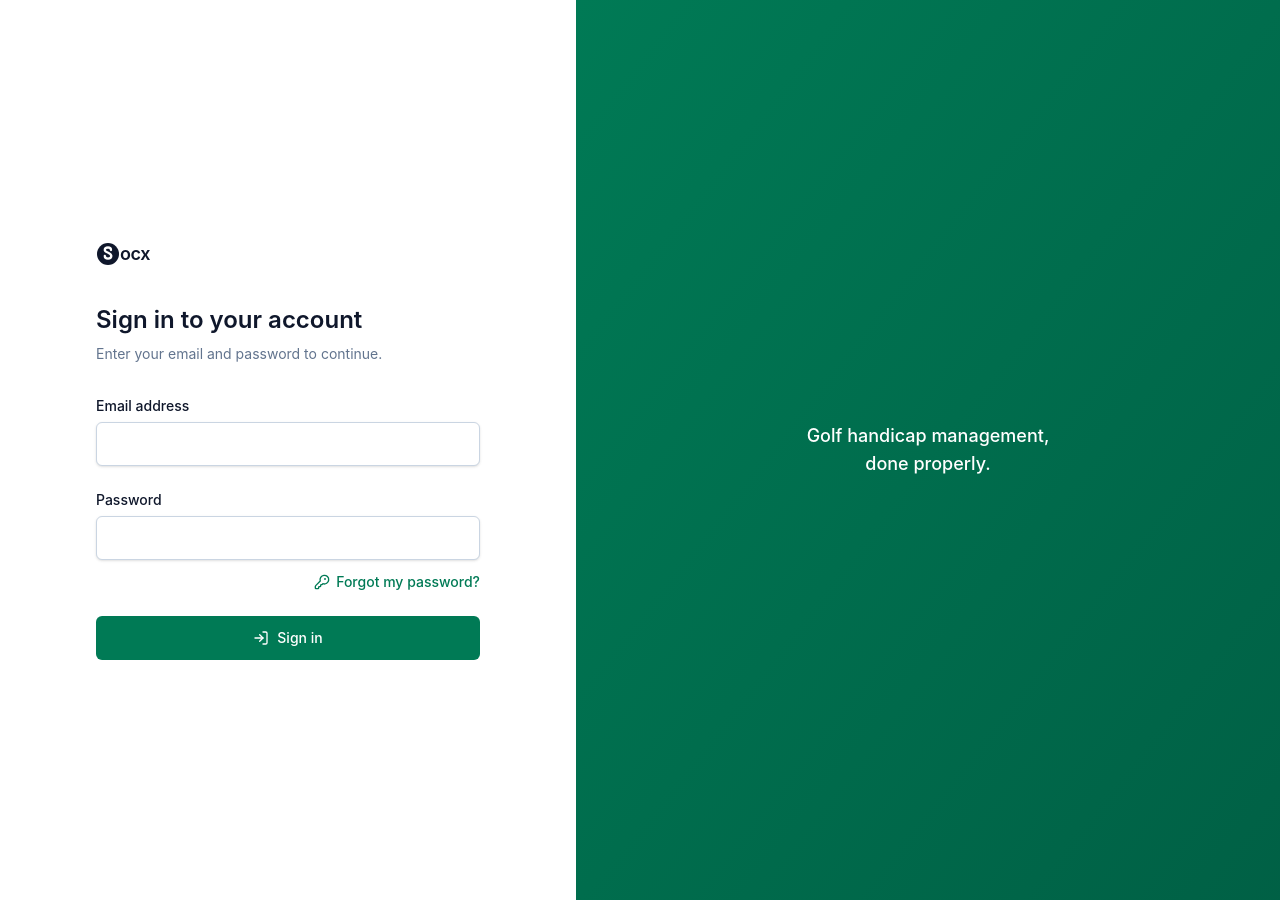
Test case: LoginPage › shows a distinct 'slow down' state for a 429, not the raw backend message (acceptance criterion)
Type "a@example.com" into the field labelled "Email address".
click(288, 444); type("a@example.com")  # box [96,422,480,466]
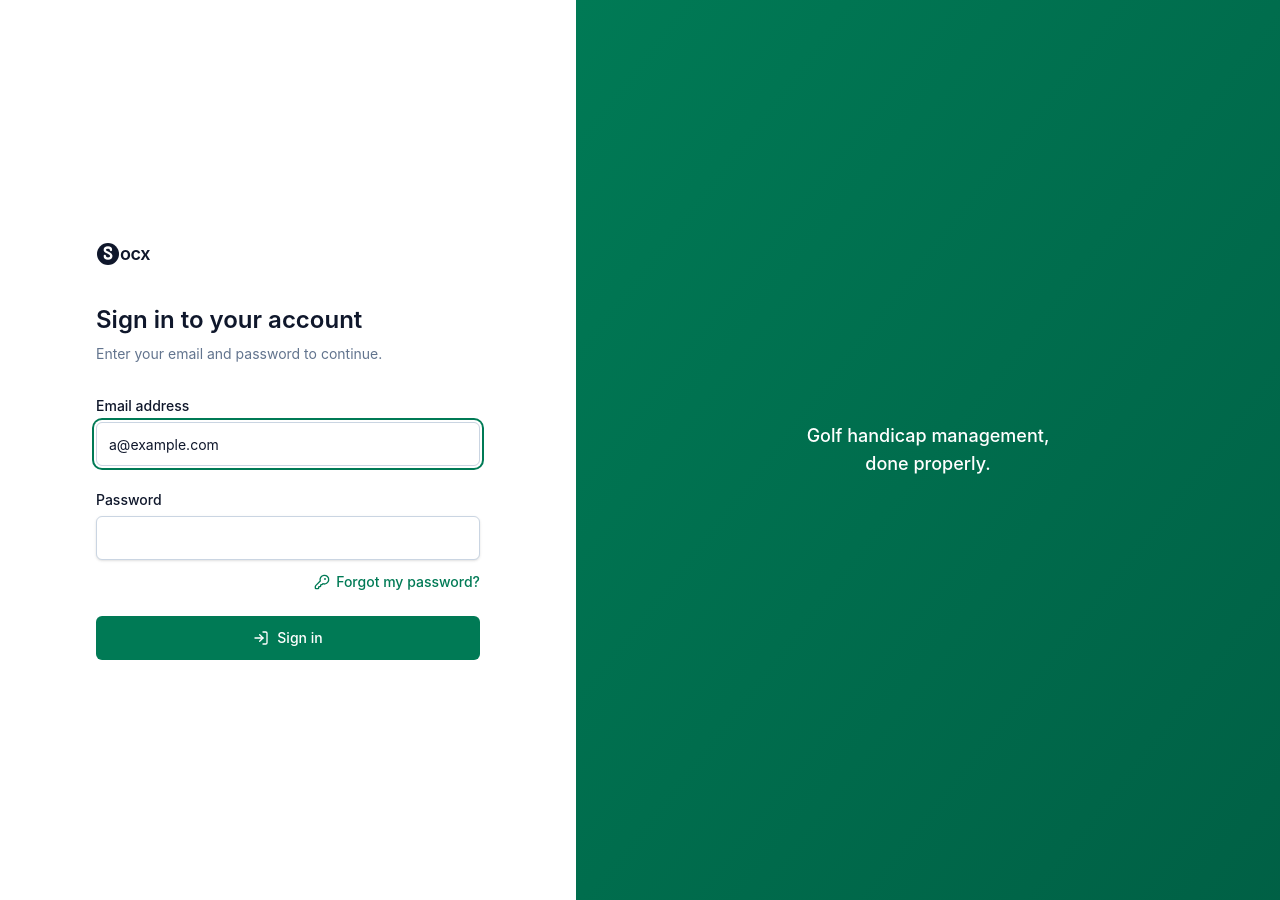
Type "pw" into the password field labelled "Password".
click(288, 538); type("pw")  # box [96,516,480,560]
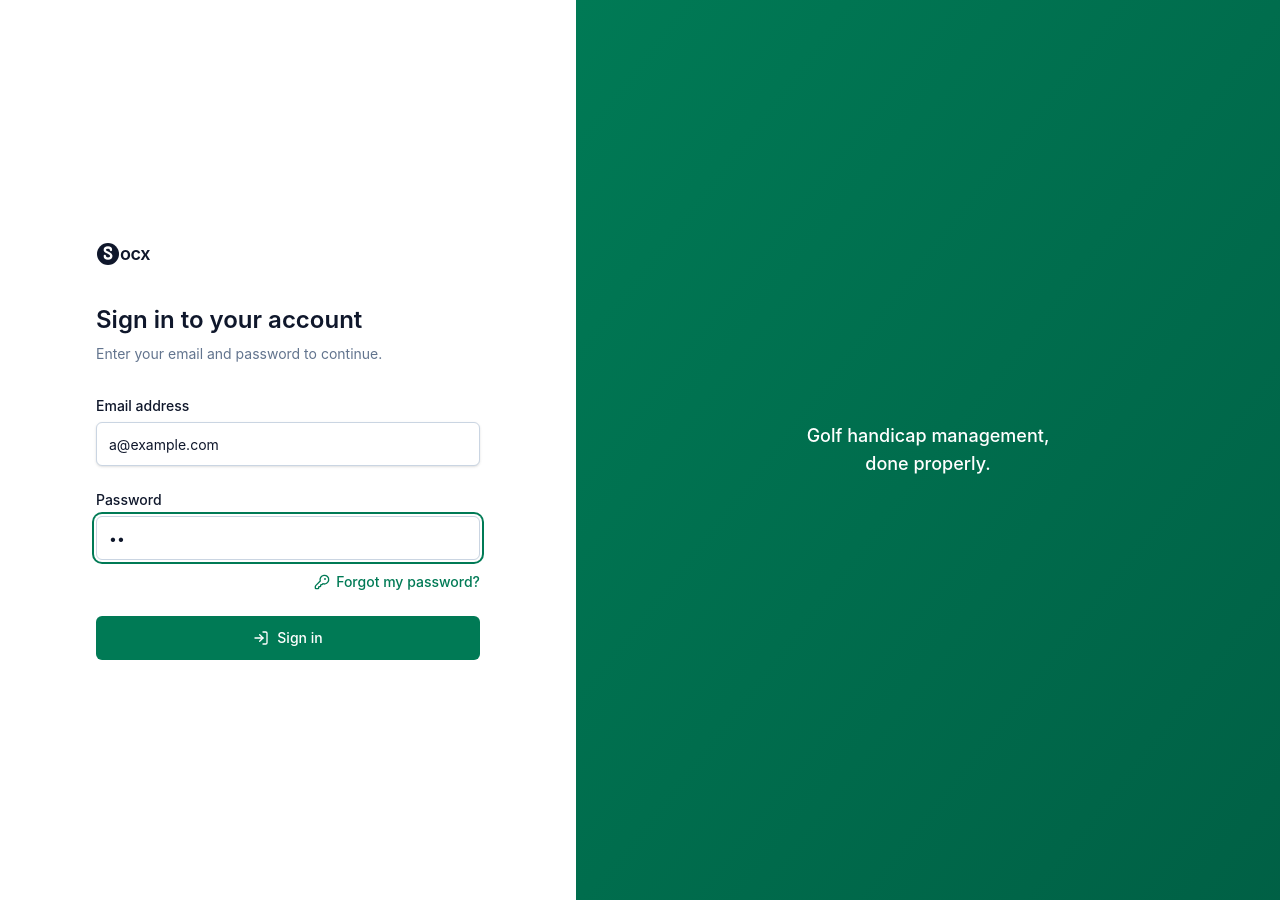
Click the button "Sign in".
click(288, 638)  # box [96,616,480,660]
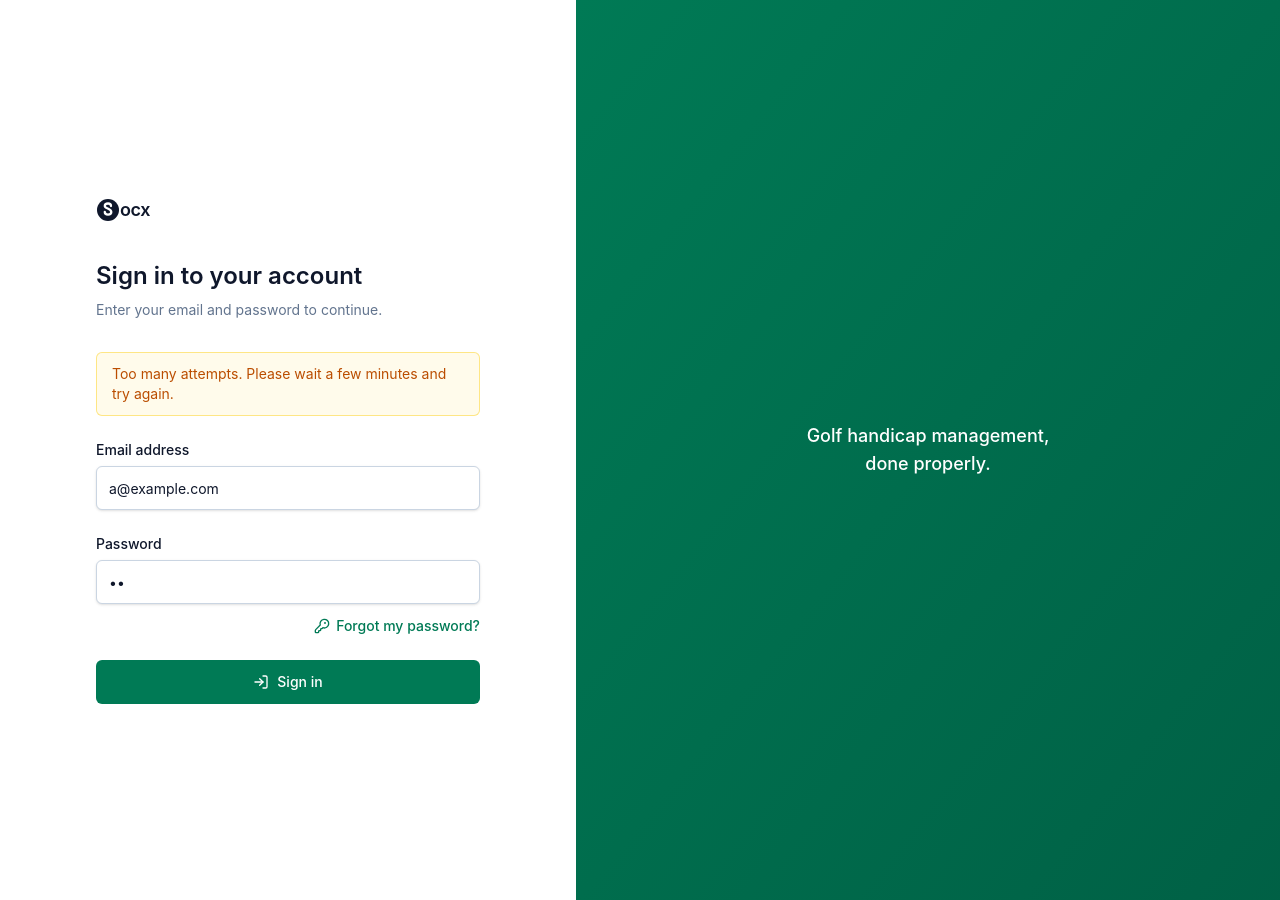
expect the message does not show "too many authentication attempts": met, box [96,352,480,416]
expect the message shows "Too many attempts": met, box [112,365,446,402]
